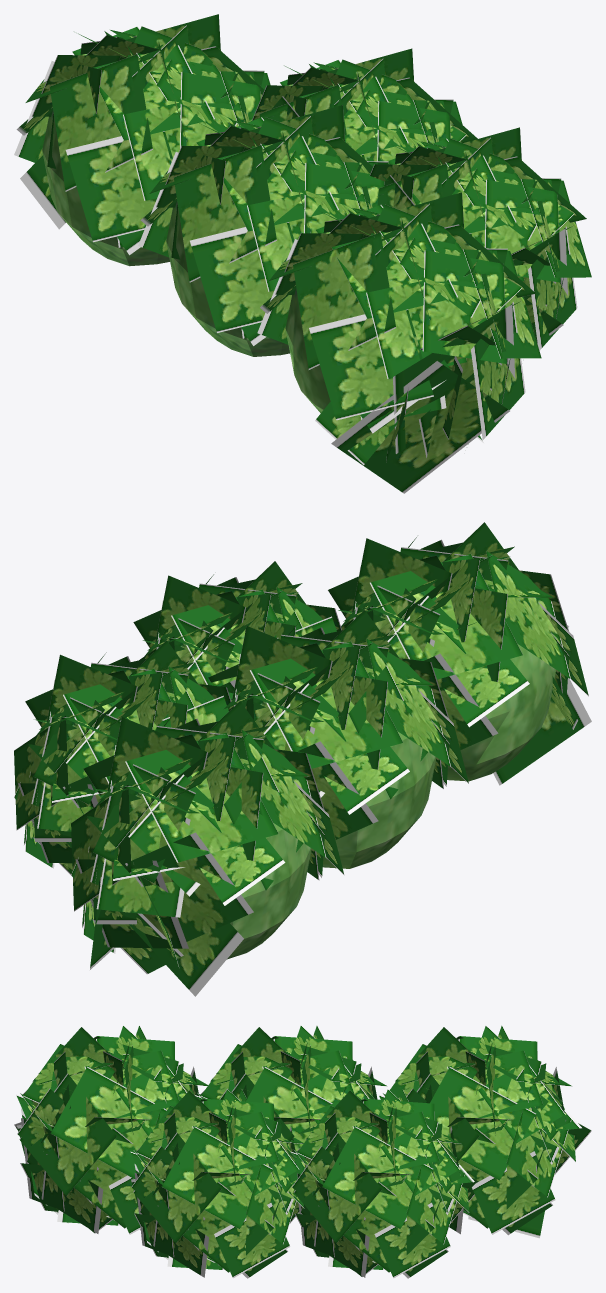
Rendered from bush.fbx.
3 renders of one model, top to bottom at view 1: azimuth 30°, elevation 25°; view 2: azimuth 150°, elevation 25°; view 3: azimuth 270°, elevation 25°, orthographic. The views are drawn at different scales.
Visible parts, largest first — view 1: street_zhiwu05; view 2: street_zhiwu05; view 3: street_zhiwu05.
Boxes of the visible parts, box(x1,y1,x2,y2) form: street_zhiwu05: box(14, 14, 591, 493); street_zhiwu05: box(14, 522, 591, 996); street_zhiwu05: box(14, 1025, 591, 1278).
Size of the model in its own units: 3.36 by 2.48 by 6.52.
1 material, 1 textured.
